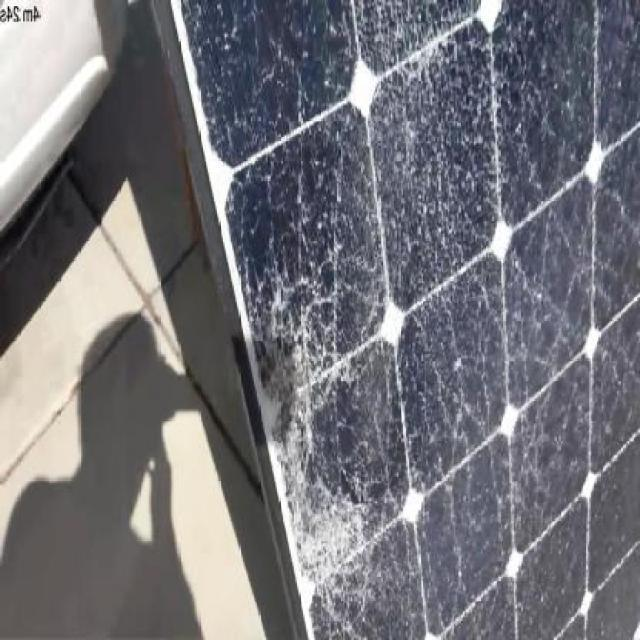cracked: (161, 1, 640, 640)
